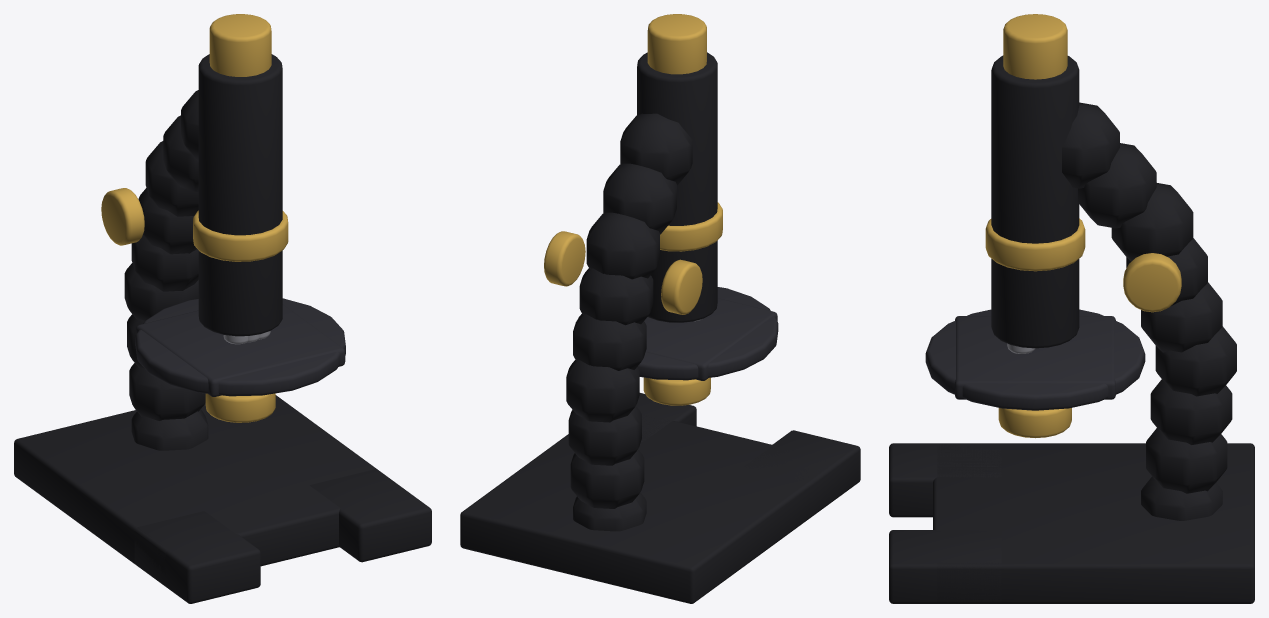
Rendered from microscopio.glb.
3 renders of one model, left to right at view 1: azimuth 30°, elevation 25°; view 2: azimuth 150°, elevation 25°; view 3: azimuth 270°, elevation 25°, orthographic. The views are drawn at different scales.
Visible parts, largest first — view 1: microscopio; view 2: microscopio; view 3: microscopio.
Boxes of the visible parts, bbox=[...] form: microscopio: bbox=[14, 14, 431, 603]; microscopio: bbox=[460, 14, 860, 603]; microscopio: bbox=[889, 14, 1254, 603].
Size of the model in its own units: 0.68 by 1.33 by 0.85.
